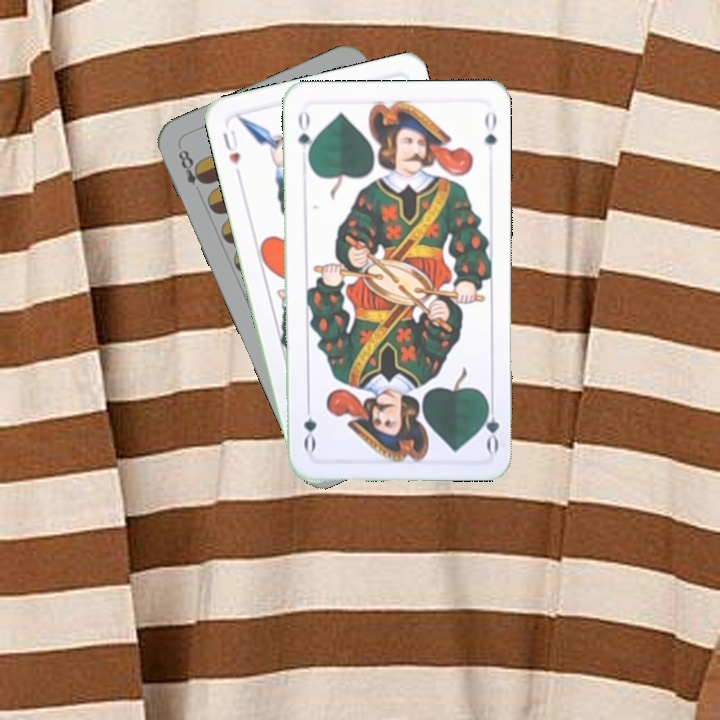E8: (174, 145, 210, 188)
GO: (477, 395, 502, 454), (293, 106, 316, 165)
HU: (218, 126, 243, 179)
